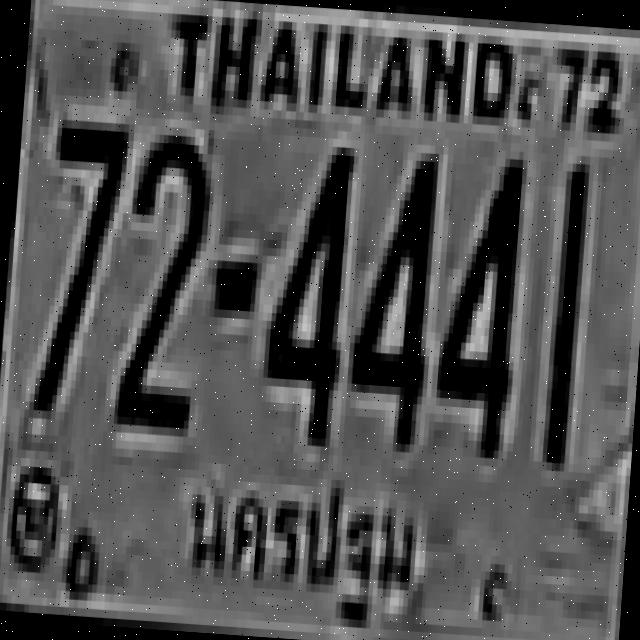1: (538, 162, 584, 463), (542, 158, 585, 458)
2: (113, 124, 209, 420)
4: (428, 147, 524, 450), (345, 140, 437, 444), (258, 134, 350, 438)
7: (29, 110, 125, 414)
NakhonPathom: (172, 458, 428, 636)
